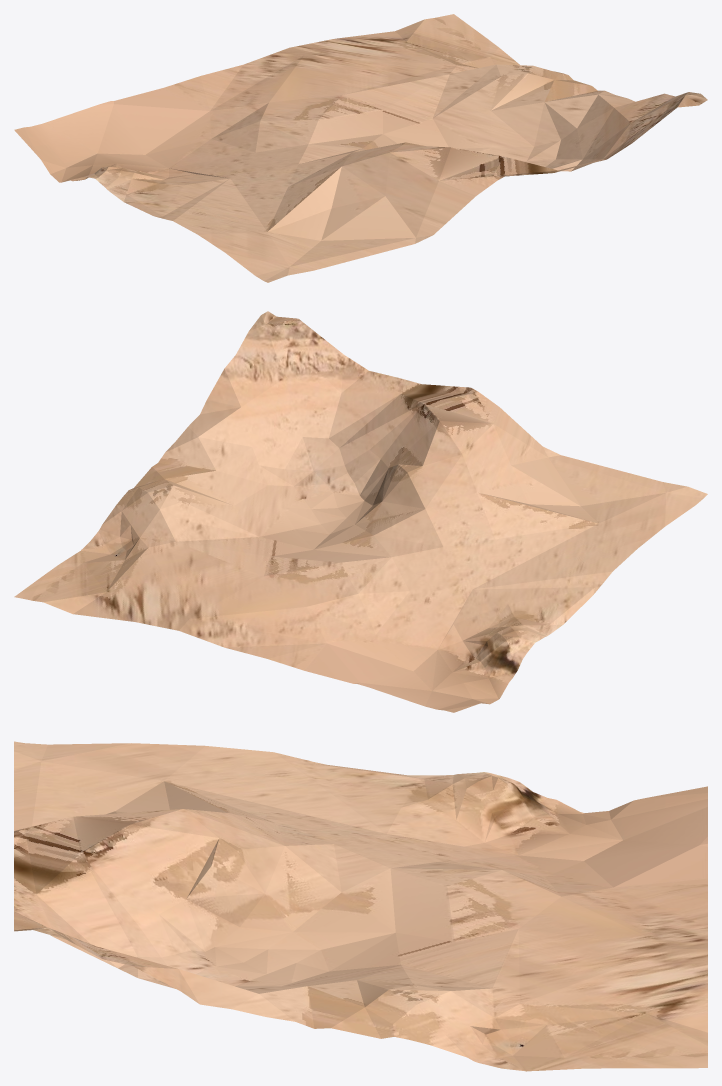
3 renders of one model, top to bottom at view 1: azimuth 30°, elevation 25°; view 2: azimuth 150°, elevation 25°; view 3: azimuth 270°, elevation 25°, orthographic. The views are drawn at different scales.
Size of the model in its own units: 1.04 by 0.293 by 1.04.
Materials: 3 (3 with a texture image).
